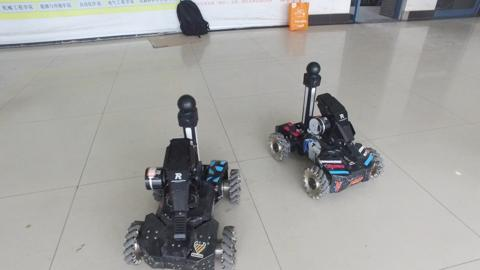chariot: (120, 87, 246, 270), (261, 61, 391, 205)
